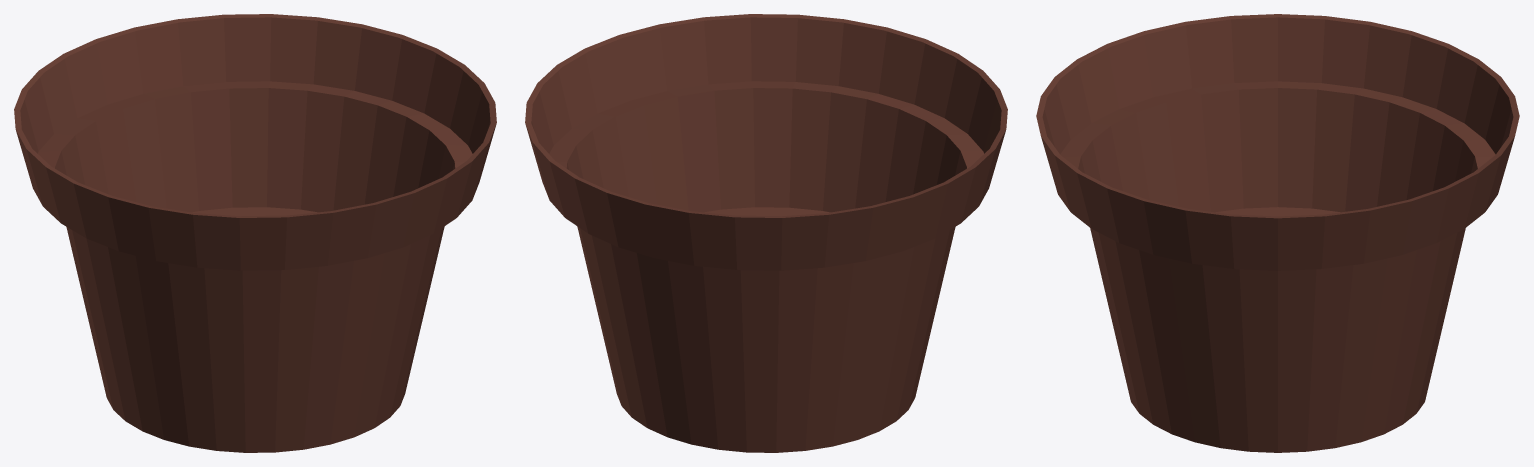
Rendered from maceta.fbx.
The picture shows the model from 3 angles, left to right: view 1: azimuth 30°, elevation 25°; view 2: azimuth 150°, elevation 25°; view 3: azimuth 270°, elevation 25°; orthographic projection.
Visible parts, largest first — view 1: Cylinder; view 2: Cylinder; view 3: Cylinder.
Boxes of the visible parts, left/top/right/bottom form: Cylinder: left=14, top=14, right=496, bottom=452; Cylinder: left=525, top=14, right=1007, bottom=452; Cylinder: left=1036, top=14, right=1519, bottom=452.
Bounding box in the file's own units: 273 × 170 × 273.
